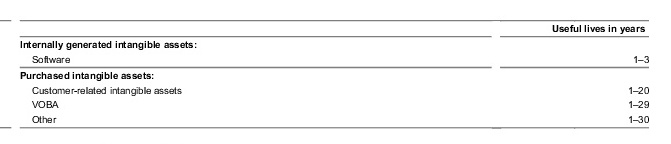table: (0, 0, 671, 144)
